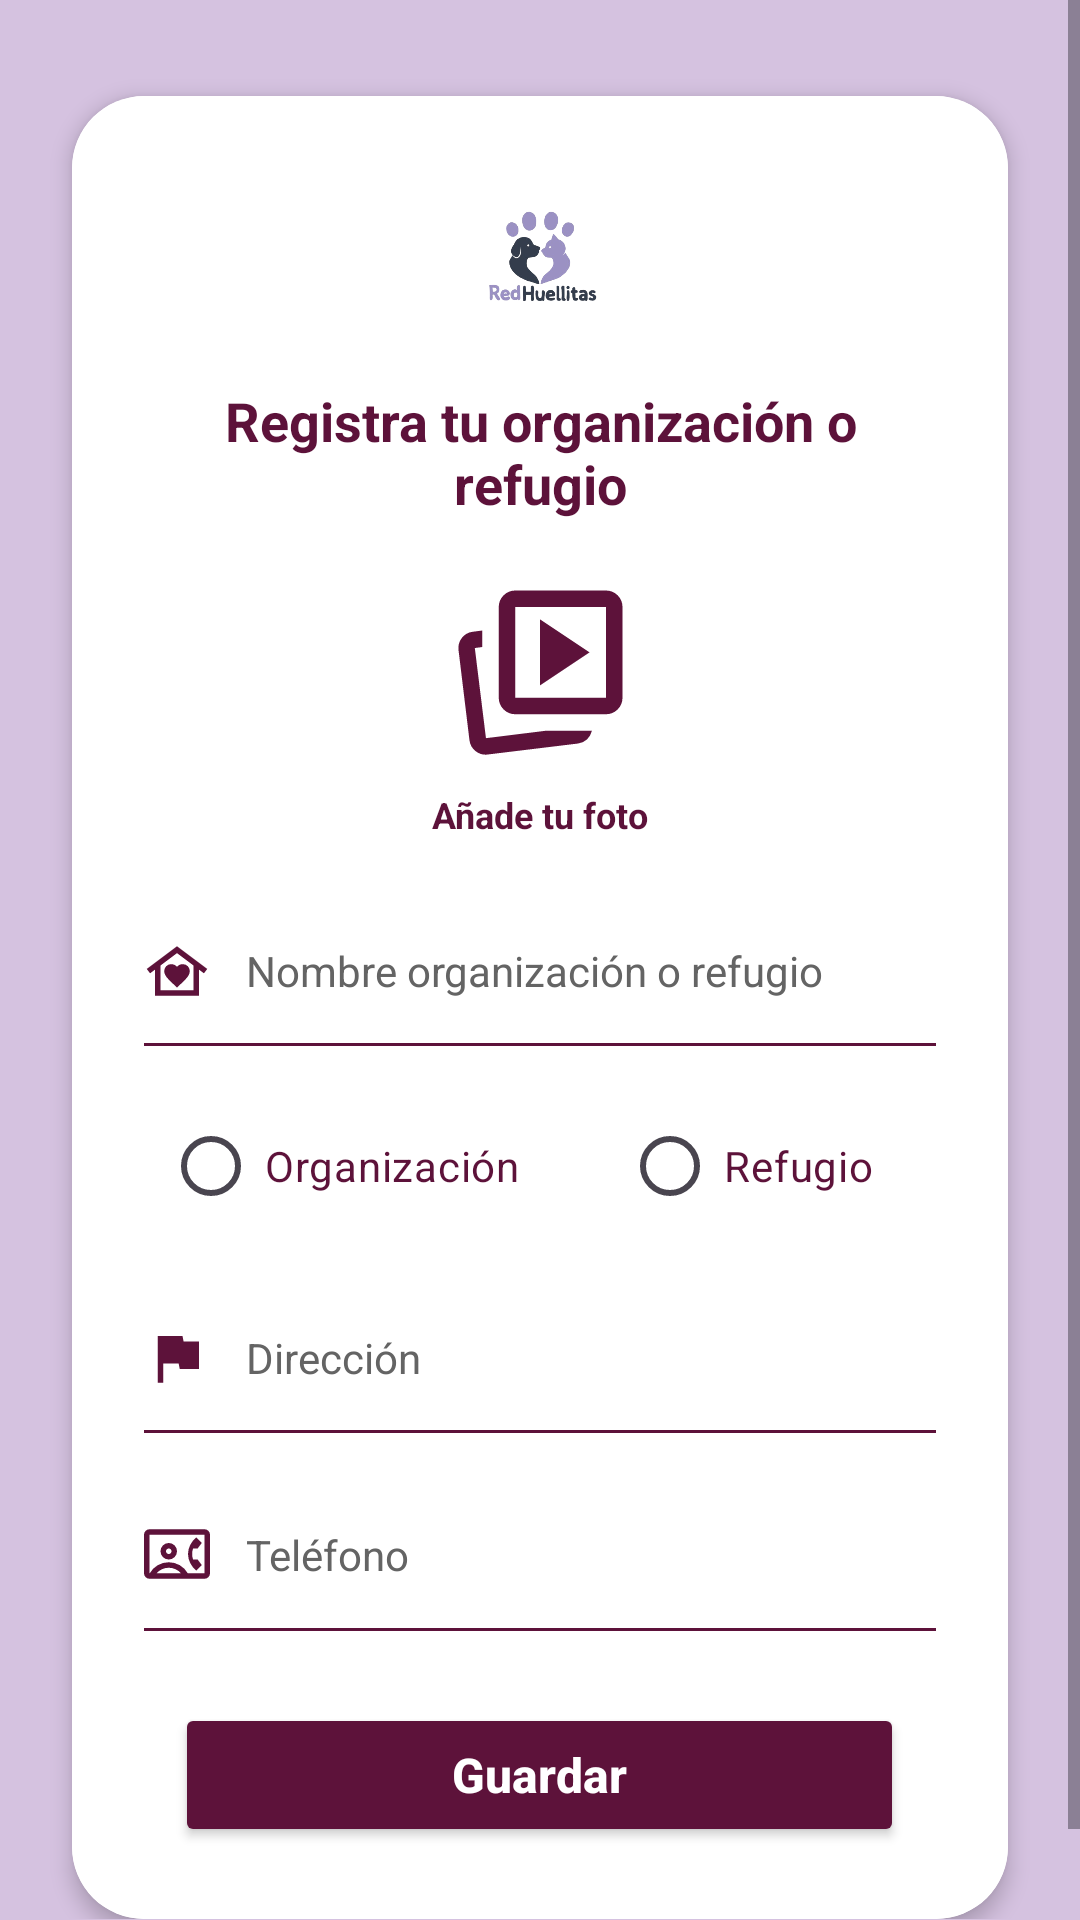

Icons on this 1080x1920 Android screen, each with its box as (x1, y1, x2, y2):
flag: (157, 1336, 199, 1383)
phone: (144, 1529, 210, 1579)
